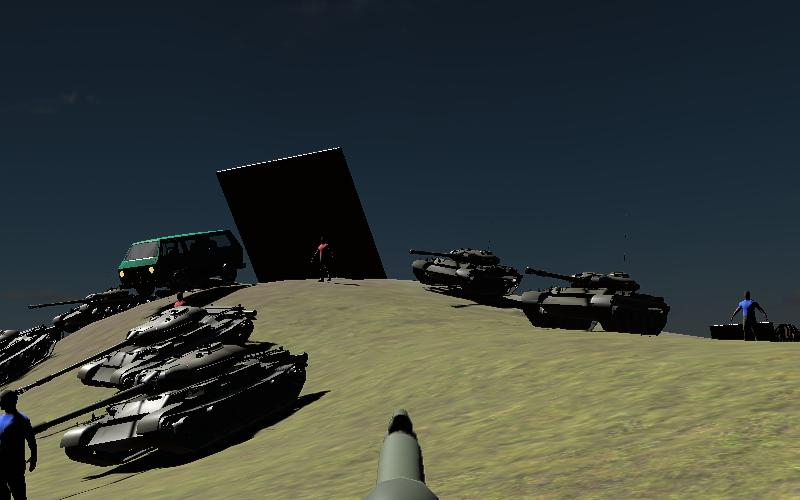Human: (0, 388, 41, 499), (729, 287, 768, 347), (310, 234, 336, 286)
Tank: (23, 337, 314, 470), (76, 303, 262, 395), (520, 259, 675, 341), (406, 241, 525, 305), (26, 285, 145, 339), (0, 321, 56, 391)
car: (117, 229, 245, 301), (707, 302, 800, 351)
